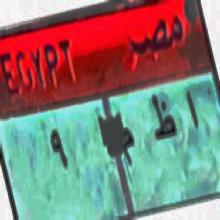9: (48, 120, 74, 169)
Thaa: (149, 86, 178, 146)
alif: (183, 87, 202, 135)
meem: (120, 124, 137, 168)
